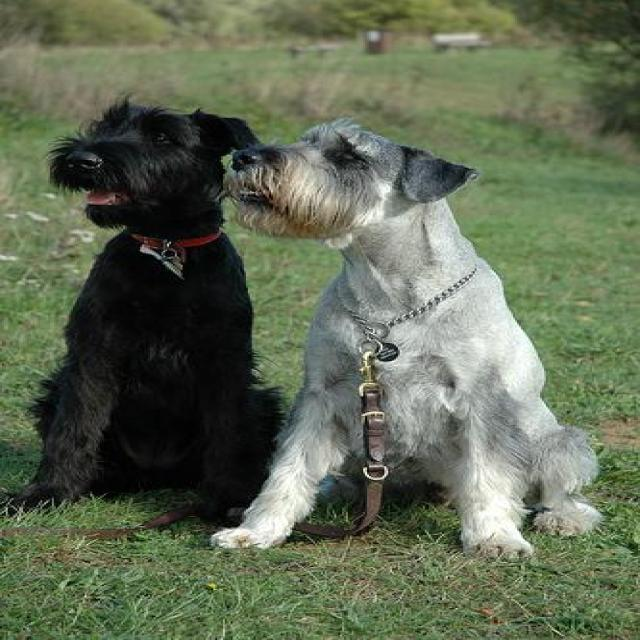standard_schnauzer: (196, 111, 609, 566), (12, 102, 290, 534)
